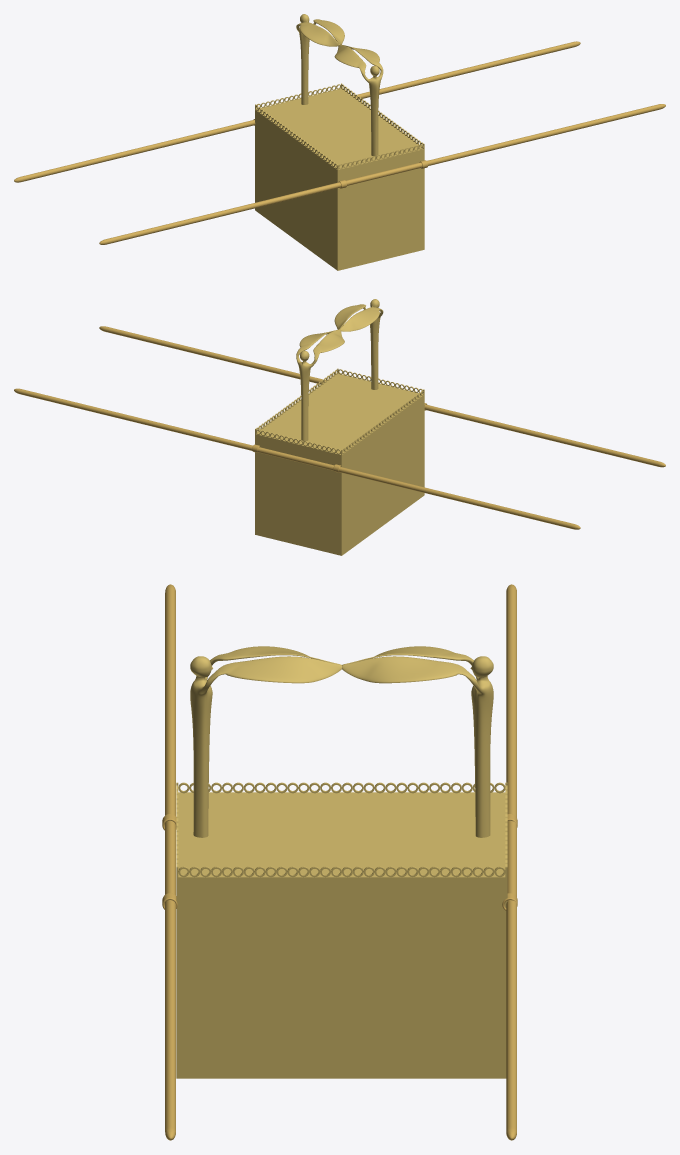
Rendered from aron.fbx.
The picture shows the model from 3 angles, top to bottom: view 1: azimuth 30°, elevation 25°; view 2: azimuth 150°, elevation 25°; view 3: azimuth 270°, elevation 25°; orthographic projection. The views are drawn at different scales.
Visible parts, largest first — view 1: outer_box, caporet, rod.001, rod.000, Cube, Cube.001, zer_01, zer_02; view 2: outer_box, caporet, rod.000, rod.001, Cube.001, Cube, zer_01, zer_02; view 3: outer_box, caporet, Cube.001, Cube, rod.001, rod.000, zer_02, zer_01.
Boxes of the visible parts, x1,y1,x2,y2 form: outer_box: [255, 88, 424, 270]; caporet: [259, 89, 421, 169]; rod.001: [99, 104, 665, 244]; rod.000: [14, 41, 580, 182]; Cube: [334, 44, 383, 156]; Cube.001: [296, 14, 344, 104]; zer_01: [255, 105, 337, 168]; zer_02: [341, 84, 423, 147]; outer_box: [255, 373, 424, 555]; caporet: [258, 374, 419, 454]; rod.000: [14, 388, 580, 529]; rod.001: [99, 326, 665, 467]; Cube.001: [296, 329, 344, 441]; Cube: [334, 299, 383, 389]; zer_01: [342, 390, 423, 453]; zer_02: [256, 369, 337, 432]; outer_box: [176, 792, 507, 1078]; caporet: [178, 793, 505, 876]; Cube.001: [342, 646, 493, 837]; Cube: [190, 646, 341, 837]; rod.001: [165, 584, 175, 1140]; rod.000: [506, 584, 516, 1140]; zer_02: [178, 866, 505, 877]; zer_01: [178, 782, 505, 793].
Size of the model in its own units: 6000 by 1928 by 1629.
